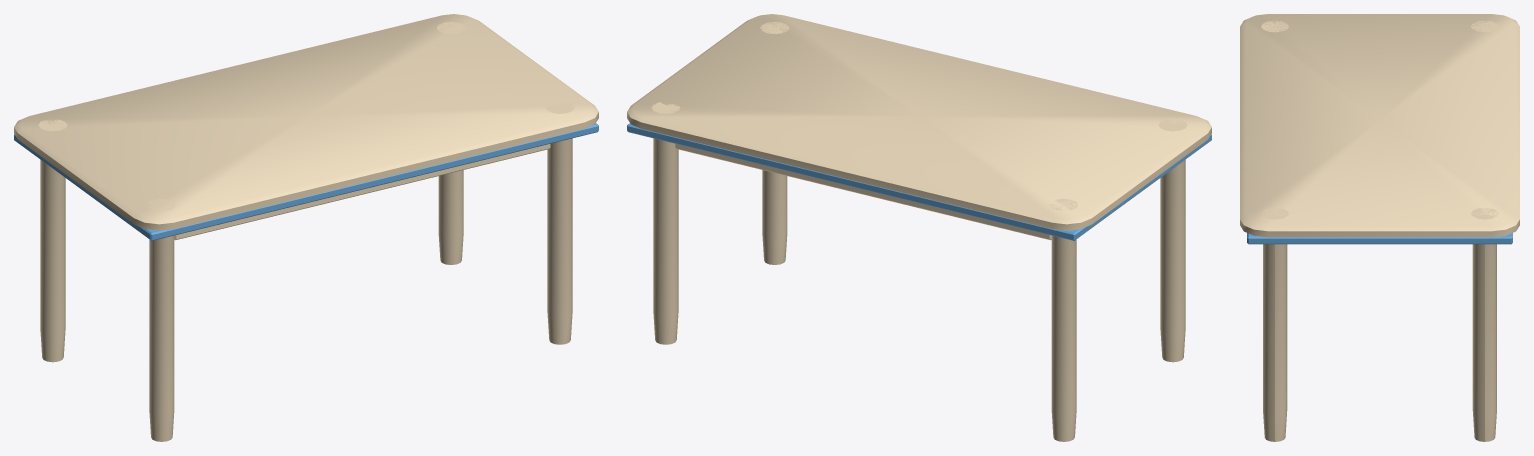
The model's file is nursery-and-primary-classroom-child-table-rectangular-75deeb80__34983.glb.
3 views of the same model, side by side, from view 1: azimuth 30°, elevation 25°; view 2: azimuth 150°, elevation 25°; view 3: azimuth 270°, elevation 25° (orthographic). The views are drawn at different scales.
Visible parts, largest first — view 1: child-table-rectangular; view 2: child-table-rectangular; view 3: child-table-rectangular.
Boxes of the visible parts, bbox=[...] form: child-table-rectangular: bbox=[14, 14, 598, 441]; child-table-rectangular: bbox=[627, 14, 1211, 441]; child-table-rectangular: bbox=[1240, 14, 1519, 441].
Size of the model in its own units: 1.1 by 0.53 by 0.6.
